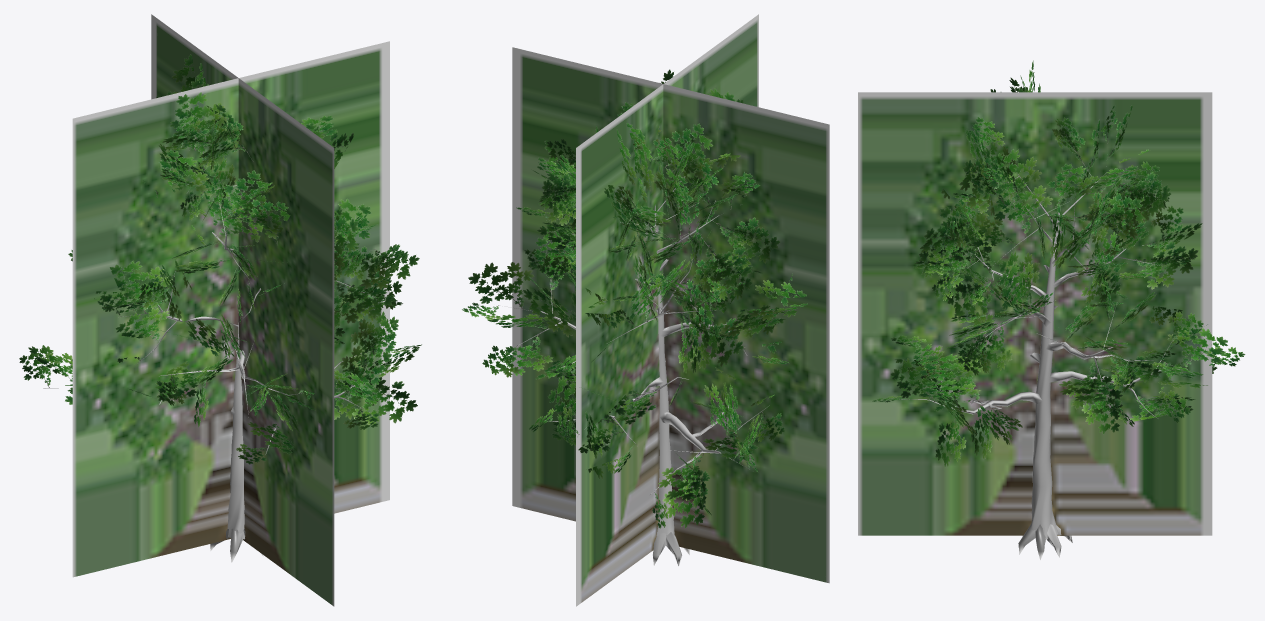
The model's file is Tree-Maple1A.fbx.
The picture shows the model from 3 angles, left to right: view 1: azimuth 30°, elevation 25°; view 2: azimuth 150°, elevation 25°; view 3: azimuth 270°, elevation 25°; orthographic projection. The views are drawn at different scales.
Parts seen in each view (by area): view 1: Billboard-MapleA, Tree-Maple1A_LOD0; view 2: Billboard-MapleA, Tree-Maple1A_LOD0; view 3: Billboard-MapleA, Tree-Maple1A_LOD0.
Part boxes in pixels (<box>): Billboard-MapleA: <box>72,14,389,606</box>; Tree-Maple1A_LOD0: <box>19,54,421,562</box>; Billboard-MapleA: <box>512,14,829,606</box>; Tree-Maple1A_LOD0: <box>462,69,807,566</box>; Billboard-MapleA: <box>858,92,1212,535</box>; Tree-Maple1A_LOD0: <box>872,60,1245,559</box>.
Size of what is drawn, in the model's own units: 1620 by 2279 by 1741.
